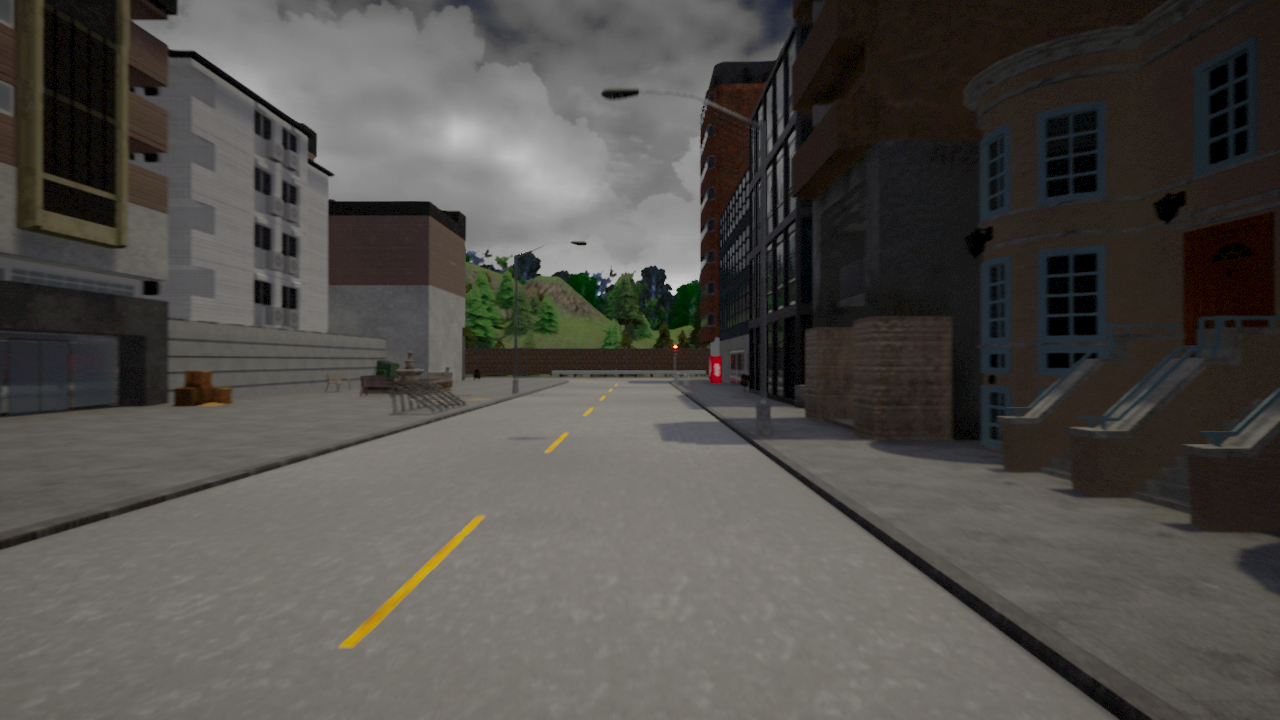red: (672, 343, 679, 355)
